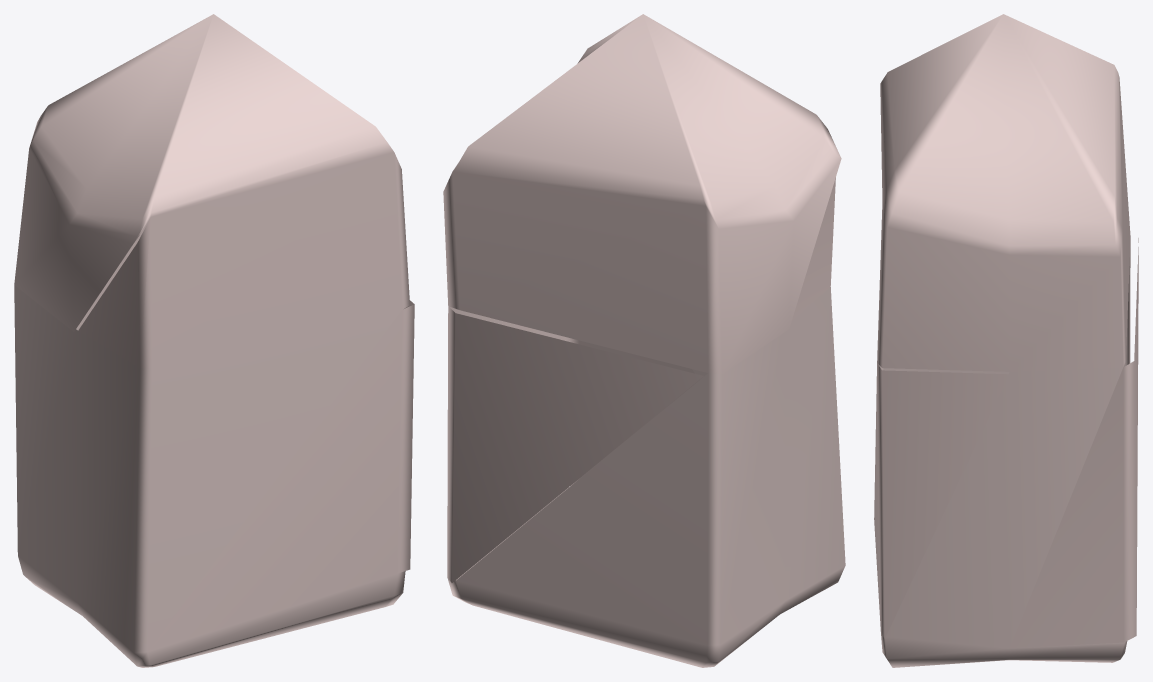
File: street.furniture.milestone_b.glb
3 views of the same model, side by side, from view 1: azimuth 30°, elevation 25°; view 2: azimuth 150°, elevation 25°; view 3: azimuth 270°, elevation 25° (orthographic).
Parts seen in each view (by area): view 1: main__paint_dcc, main__concrete_dcc, main__galv_dcc, main__paint_ecc; view 2: main__paint_dcc, main__concrete_dcc, main__galv_dcc, main__paint_ecc; view 3: main__paint_dcc, main__galv_dcc, main__concrete_dcc.
Boxes of the visible parts, <box> form: main__paint_dcc: <box>14,14,409,368</box>; main__concrete_dcc: <box>14,285,405,667</box>; main__galv_dcc: <box>79,256,414,651</box>; main__paint_ecc: <box>78,218,150,367</box>; main__paint_dcc: <box>443,14,841,374</box>; main__concrete_dcc: <box>447,287,845,667</box>; main__galv_dcc: <box>447,306,703,582</box>; main__paint_ecc: <box>792,177,835,320</box>; main__paint_dcc: <box>877,14,1130,371</box>; main__galv_dcc: <box>874,238,1138,648</box>; main__concrete_dcc: <box>877,240,1130,667</box>.
Size of the model in its own units: 0.4634 by 0.8783 by 0.3522.
